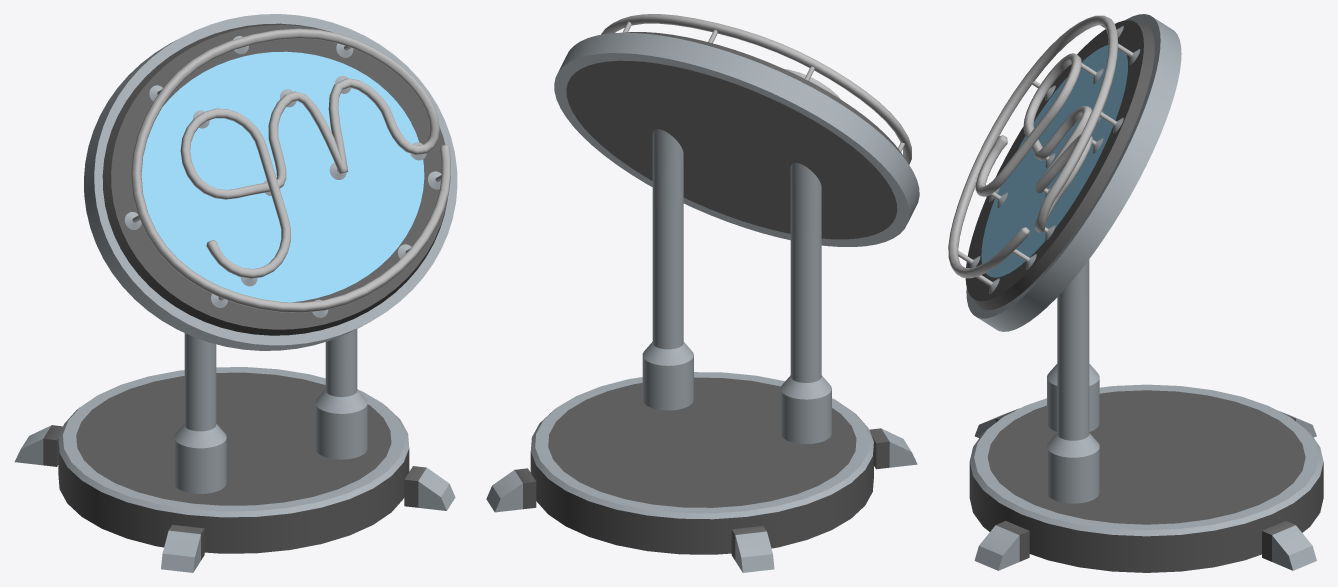
File: Neon_Sign3.fbx
3 renders of one model, left to right at view 1: azimuth 30°, elevation 25°; view 2: azimuth 150°, elevation 25°; view 3: azimuth 270°, elevation 25°, orthographic. The views are drawn at different scales.
Visible parts, largest first — view 1: color3, Neon_Sign3, gm_board, gm_neon, feet_legs, support_base; view 2: gm_board, Neon_Sign3, feet_legs, gm_neon; view 3: Neon_Sign3, gm_board, feet_legs, gm_neon, color3, support_base, support_pins.
Part boxes in pixels (x1,y1,x2,y2): color3: (141, 51, 424, 302); Neon_Sign3: (58, 367, 409, 553); gm_board: (84, 14, 457, 350); gm_neon: (131, 28, 450, 312); feet_legs: (14, 329, 455, 572); support_base: (124, 36, 441, 317); gm_board: (554, 32, 919, 246); Neon_Sign3: (530, 372, 873, 554); feet_legs: (486, 129, 917, 572); gm_neon: (601, 14, 911, 164); Neon_Sign3: (969, 384, 1323, 572); gm_board: (965, 14, 1181, 331); feet_legs: (974, 259, 1316, 570); gm_neon: (948, 15, 1118, 278); color3: (981, 45, 1127, 277); support_base: (970, 26, 1140, 293); support_pins: (958, 25, 1133, 286).
Bounding box in the file's own units: 0.8624 × 1.07 × 0.7945.
